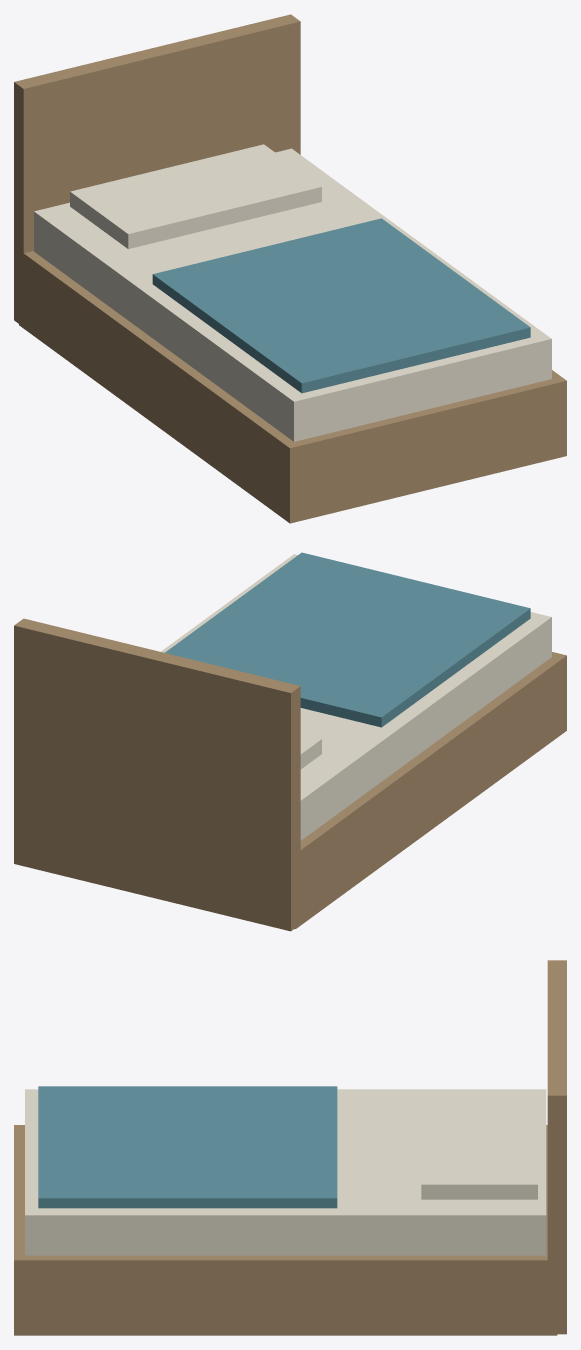
File: mdl_furniture_bed_001.glb
3 renders of one model, top to bottom at view 1: azimuth 30°, elevation 25°; view 2: azimuth 150°, elevation 25°; view 3: azimuth 270°, elevation 25°, orthographic.
Visible parts, largest first — view 1: m_madera, m_crema, m_petroleo; view 2: m_madera, m_petroleo, m_crema; view 3: m_madera, m_crema, m_petroleo.
Part boxes in pixels (x1,y1,x2,y2): m_madera: [14, 14, 566, 523]; m_crema: [34, 144, 551, 441]; m_petroleo: [152, 218, 530, 393]; m_madera: [14, 618, 566, 931]; m_petroleo: [165, 552, 530, 727]; m_crema: [161, 554, 551, 840]; m_madera: [14, 960, 566, 1335]; m_crema: [25, 1089, 546, 1255]; m_petroleo: [38, 1086, 337, 1208].
Size of the model in its own units: 1.16 by 0.955 by 1.99.
